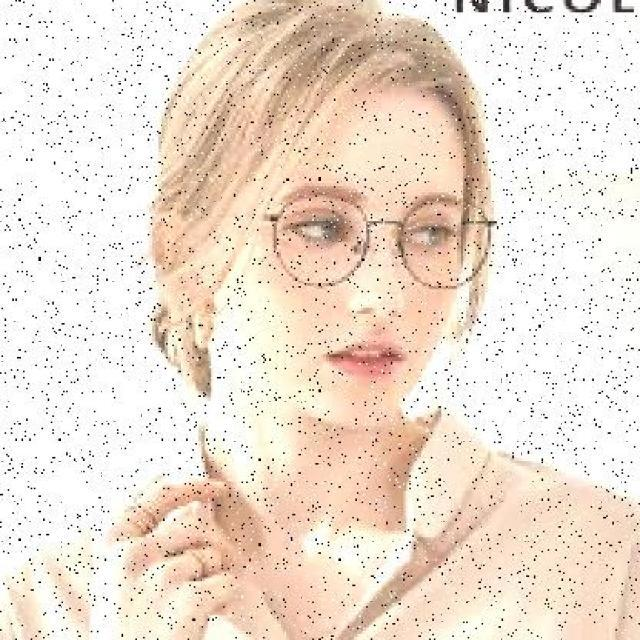glasses: (258, 180, 507, 300)
